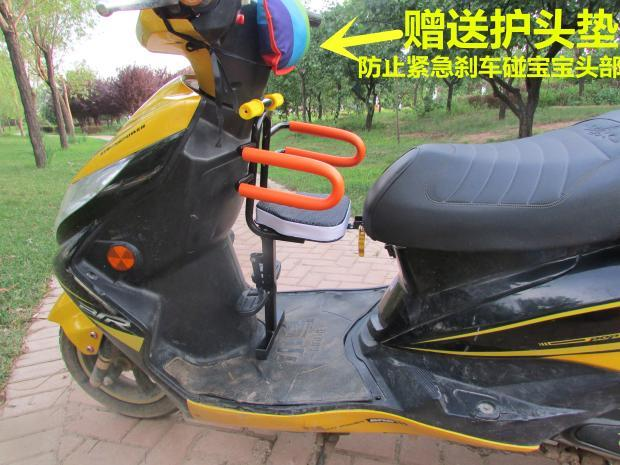电动车: (25, 3, 620, 460)
